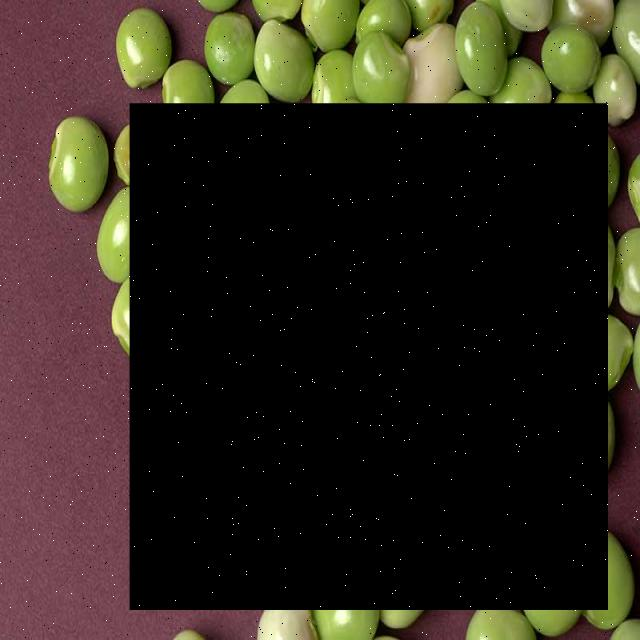Rahar_ko_Daal: (130, 103, 608, 610)
